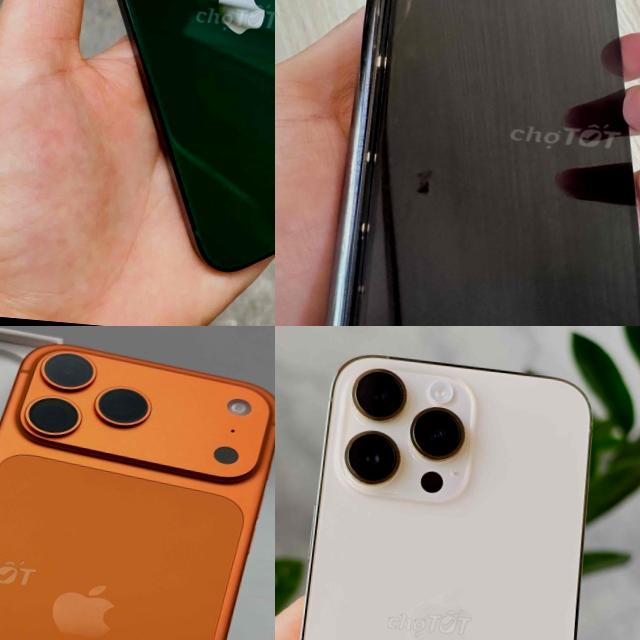gen_12_13: (35, 0, 275, 288)
gen_14: (275, 338, 618, 640)
gen_17: (0, 333, 275, 640)
scratch: (295, 0, 640, 326), (363, 0, 398, 35)
screen_defect: (396, 0, 435, 35)
